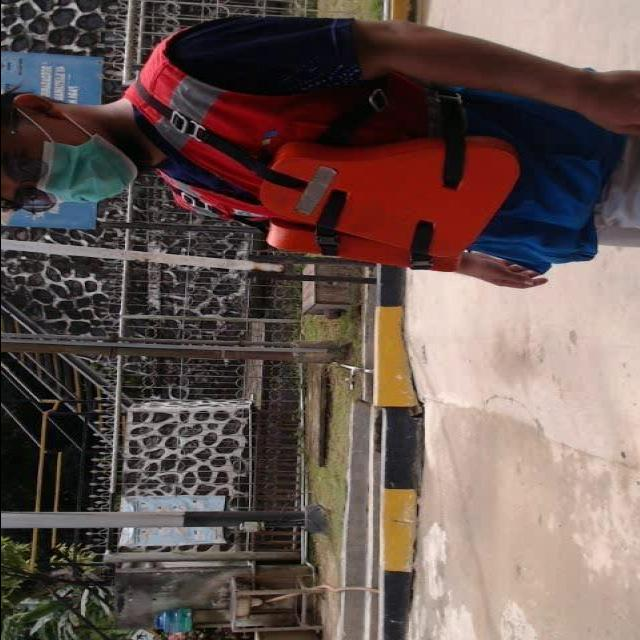jacket: (109, 11, 519, 300)
